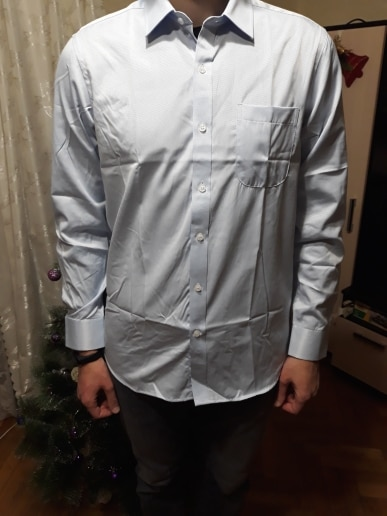shirts: (50, 8, 348, 400)
